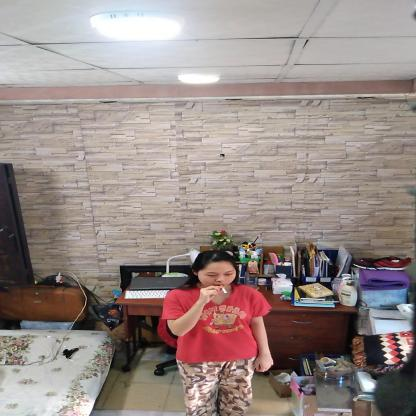cigarette: (222, 288, 228, 294)
person: (159, 249, 276, 415)
